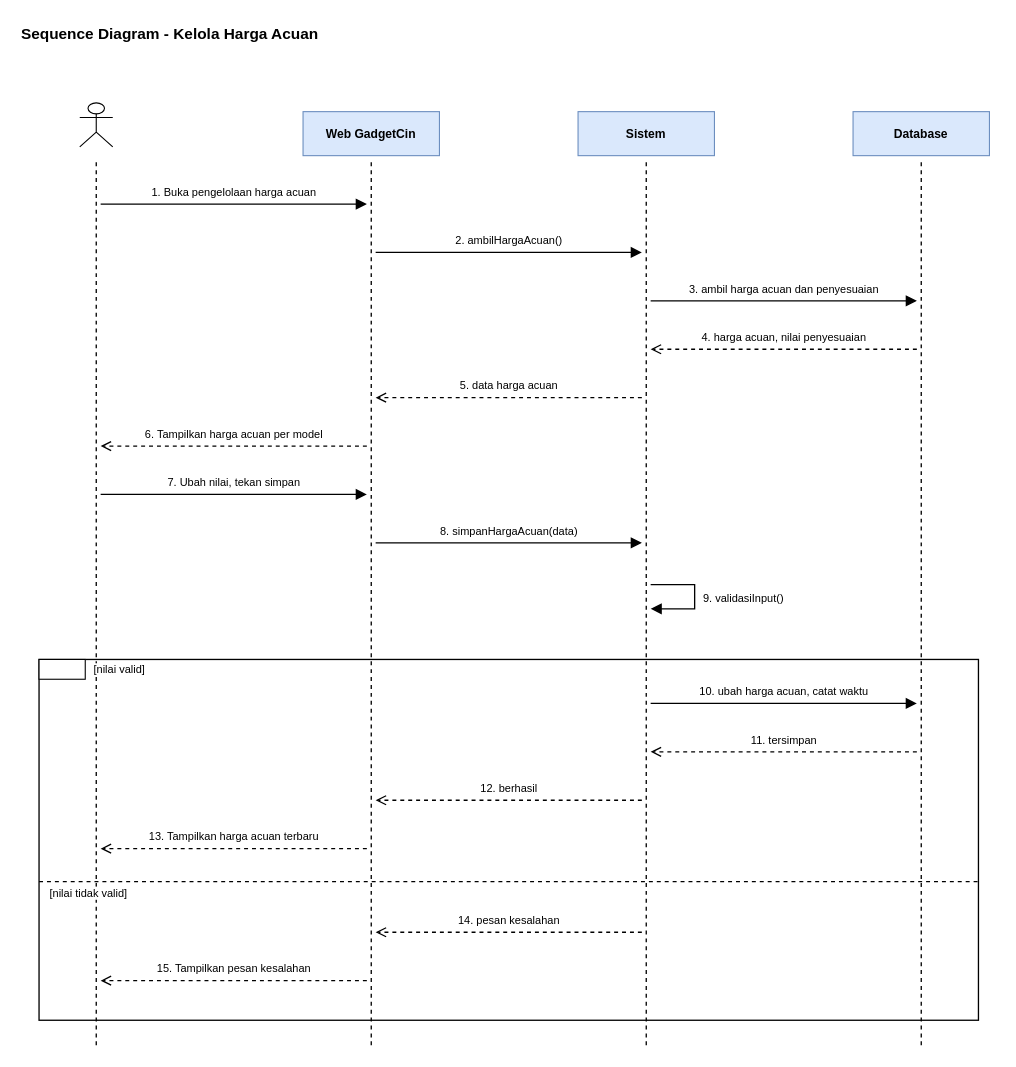
Some shapes in this 1016 by 1067 pixel diagram are drawn without their labels. Here are the shapes that lost their labels. From the top down, the centre of each, then its label:
At (96,124): "Admin".
At (61,668): "alt".
